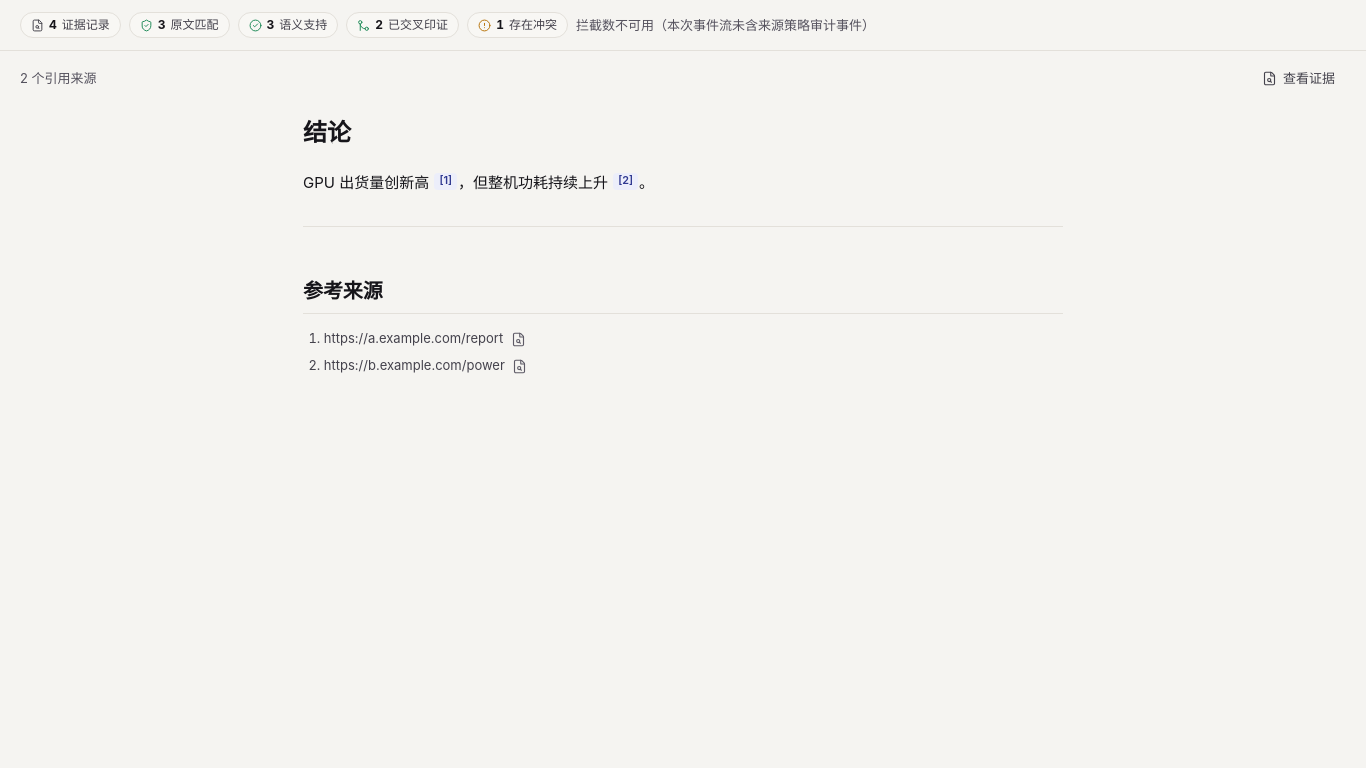
Scenario: ReportView 可审计证据链 › Escape 关闭证据栏并把焦点还给触发引用
This screenshot has width=1366, height=768.
Click the button named "查看引用 1 的证据".
click(446, 181)  # box [434,173,457,190]
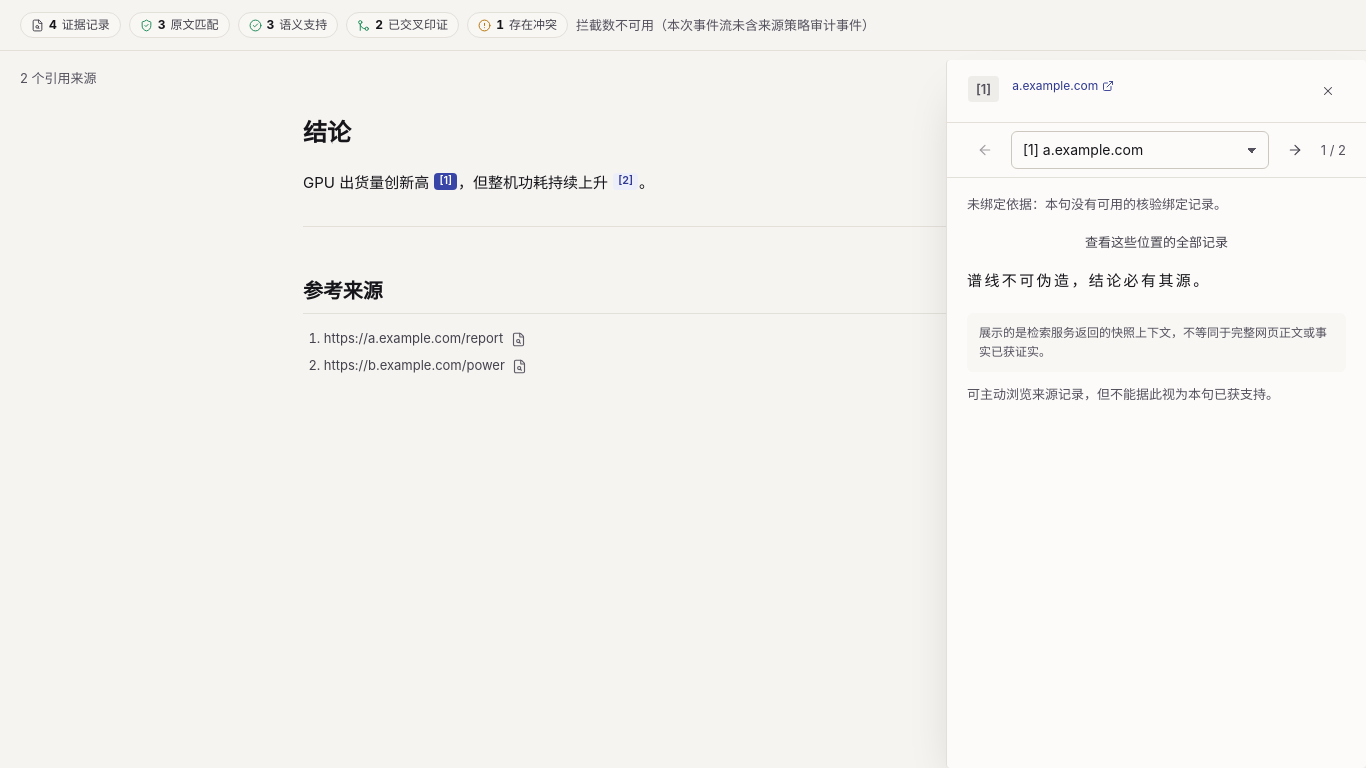
Press Escape
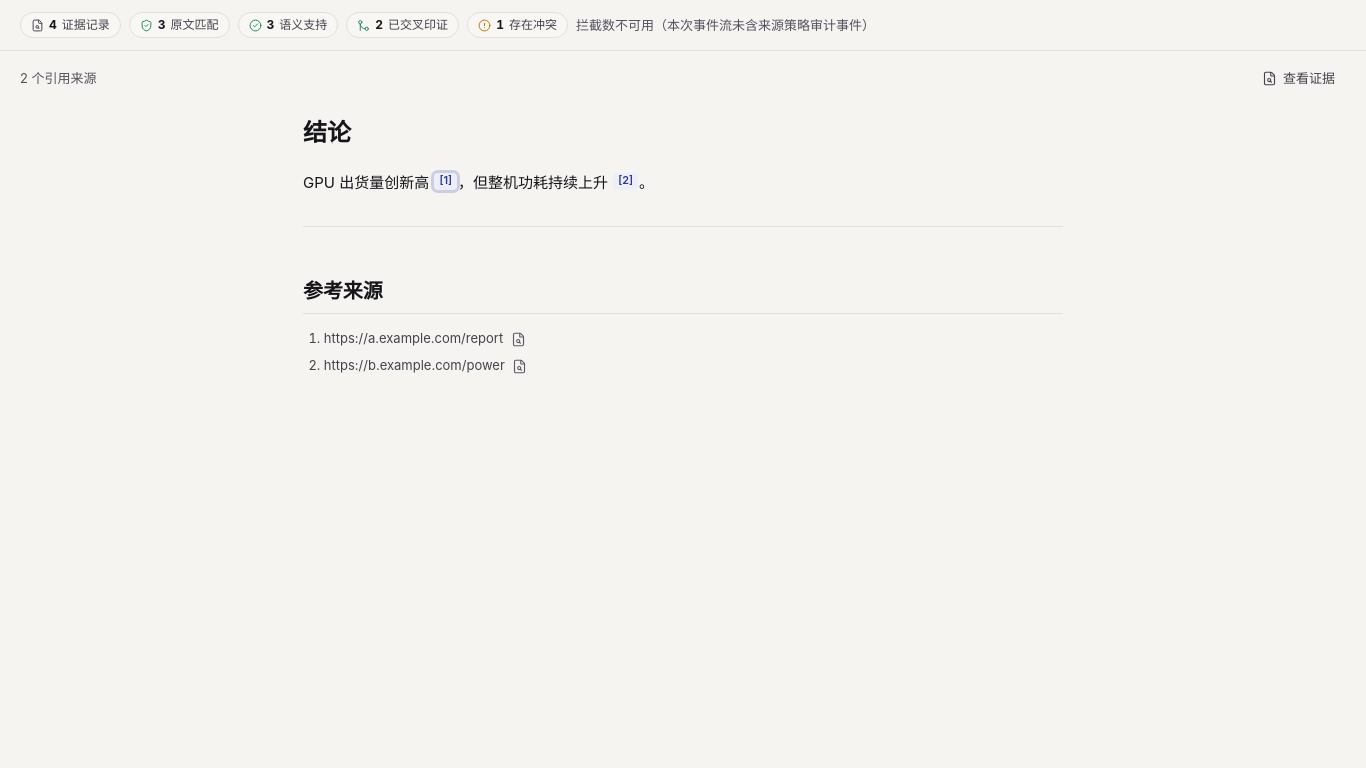
Now the dialog is gone
